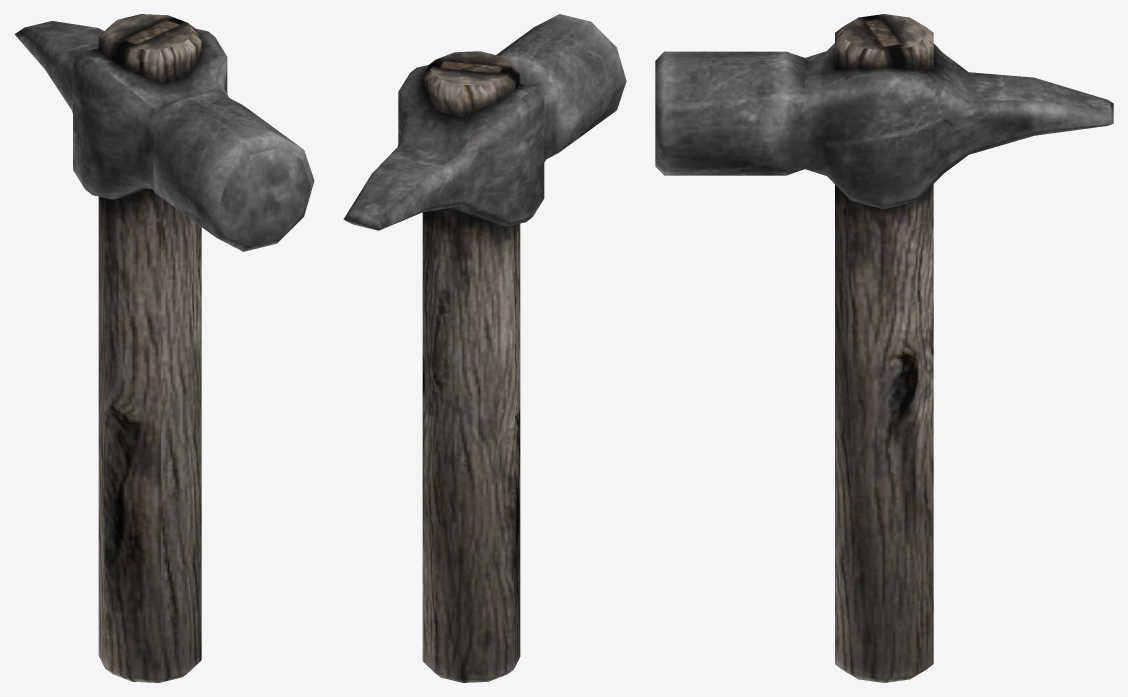
The model's file is hammer.dae.
The picture shows the model from 3 angles, left to right: view 1: azimuth 30°, elevation 25°; view 2: azimuth 150°, elevation 25°; view 3: azimuth 270°, elevation 25°; orthographic projection. The views are drawn at different scales.
Parts seen in each view (by area): view 1: hammer_mesh; view 2: hammer_mesh; view 3: hammer_mesh.
Part boxes in pixels (bbox=[...]): hammer_mesh: bbox=[14, 14, 314, 682]; hammer_mesh: bbox=[343, 14, 626, 682]; hammer_mesh: bbox=[655, 14, 1113, 682].
Size of the model in its own units: 0.0753 by 0.35 by 0.23.
